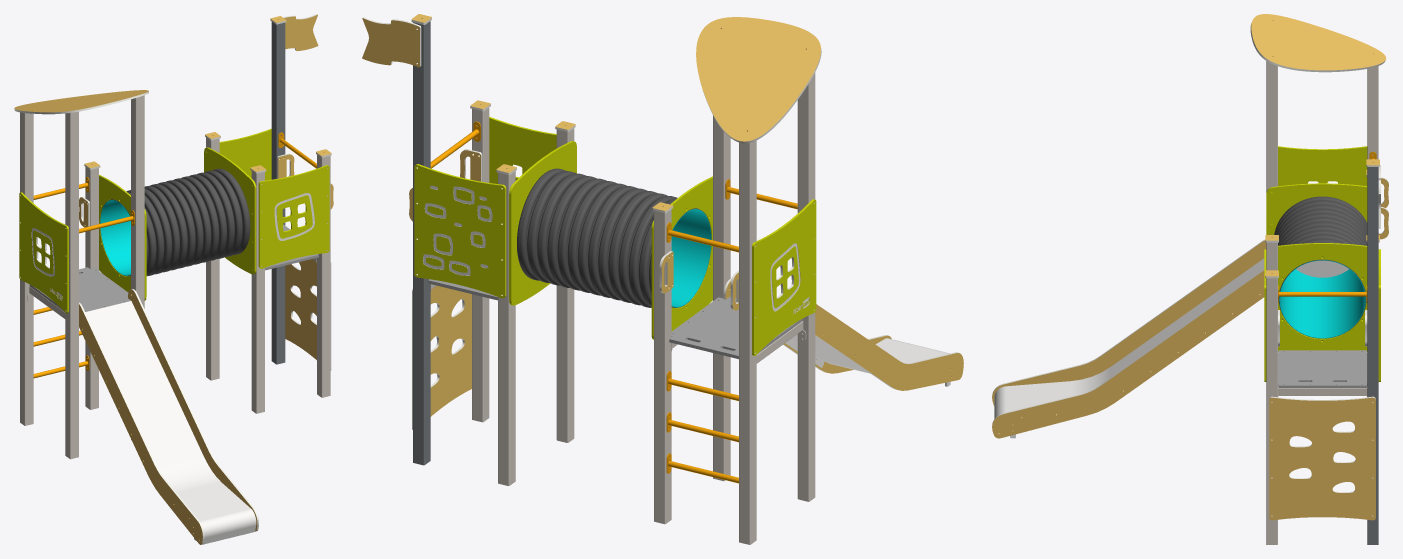
The model's file is lekland-xl.glb.
3 views of the same model, side by side, from view 1: azimuth 30°, elevation 25°; view 2: azimuth 150°, elevation 25°; view 3: azimuth 270°, elevation 25° (orthographic). The views are drawn at different scales.
Parts seen in each view (by area): view 1: Root|FLFJ014_Eco_kettornyu_jv_1200_D_OSZ|Root|beige_low_glos, Root|FLFJ014_Eco_kettornyu_jv_1200_D_OSZ|Root|white-pw-mt110, Root|FLFJ014_Eco_kettornyu_jv_1200_D_OSZ|Root|matte_steel, Root|FLFJ014_Eco_kettornyu_jv_1200_D_OSZ|Root|black_spray_pa, Root|FLFJ014_Eco_kettornyu_jv_1200_D_OSZ|Root|-1, Root|FLFJ014_Eco_kettornyu_jv_1200_D_OSZ|Root|-1-1-1, Root|FLFJ014_Eco_kettornyu_jv_1200_D_OSZ|Root|white_low_glos (×3), Root|FLFJ014_Eco_kettornyu_jv_1200_D_OSZ|Root|dark_grey_low_, Root|FLFJ014_Eco_kettornyu_jv_1200_D_OSZ|Root|-1-1_2, Root|FLFJ014_Eco_kettornyu_jv_1200_D_OSZ|Root|light_grey_low, Root|FLFJ014_Eco_kettornyu_jv_1200_D_OSZ|Root|-2, Root|FLFJ014_Eco_kettornyu_jv_1200_D_OSZ|Root|-1-2-2; view 2: Root|FLFJ014_Eco_kettornyu_jv_1200_D_OSZ|Root|beige_low_glos, Root|FLFJ014_Eco_kettornyu_jv_1200_D_OSZ|Root|white-pw-mt110, Root|FLFJ014_Eco_kettornyu_jv_1200_D_OSZ|Root|-1, Root|FLFJ014_Eco_kettornyu_jv_1200_D_OSZ|Root|black_spray_pa, Root|FLFJ014_Eco_kettornyu_jv_1200_D_OSZ|Root|white_low_glos (×3), Root|FLFJ014_Eco_kettornyu_jv_1200_D_OSZ|Root|-1-1-1, Root|FLFJ014_Eco_kettornyu_jv_1200_D_OSZ|Root|dark_grey_low_, Root|FLFJ014_Eco_kettornyu_jv_1200_D_OSZ|Root|-1-1_2, Root|FLFJ014_Eco_kettornyu_jv_1200_D_OSZ|Root|light_grey_low, Root|FLFJ014_Eco_kettornyu_jv_1200_D_OSZ|Root|-1-2-2, Root|FLFJ014_Eco_kettornyu_jv_1200_D_OSZ|Root|matte_steel; view 3: Root|FLFJ014_Eco_kettornyu_jv_1200_D_OSZ|Root|-1, Root|FLFJ014_Eco_kettornyu_jv_1200_D_OSZ|Root|-1-1_2, Root|FLFJ014_Eco_kettornyu_jv_1200_D_OSZ|Root|white-pw-mt110, Root|FLFJ014_Eco_kettornyu_jv_1200_D_OSZ|Root|beige_low_glos, Root|FLFJ014_Eco_kettornyu_jv_1200_D_OSZ|Root|white_low_glos, Root|FLFJ014_Eco_kettornyu_jv_1200_D_OSZ|Root|light_grey_low, Root|FLFJ014_Eco_kettornyu_jv_1200_D_OSZ|Root|matte_steel, Root|FLFJ014_Eco_kettornyu_jv_1200_D_OSZ|Root|dark_grey_low_, Root|FLFJ014_Eco_kettornyu_jv_1200_D_OSZ|Root|black_spray_pa, Root|FLFJ014_Eco_kettornyu_jv_1200_D_OSZ|Root|-1-1-1, Root|FLFJ014_Eco_kettornyu_jv_1200_D_OSZ|Root|-2.
Boxes of the visible parts, box(x1,y1,x2,y2) form: Root|FLFJ014_Eco_kettornyu_jv_1200_D_OSZ|Root|beige_low_glos: box(20, 95, 330, 459); Root|FLFJ014_Eco_kettornyu_jv_1200_D_OSZ|Root|white-pw-mt110: box(19, 128, 329, 313); Root|FLFJ014_Eco_kettornyu_jv_1200_D_OSZ|Root|matte_steel: box(85, 301, 256, 544); Root|FLFJ014_Eco_kettornyu_jv_1200_D_OSZ|Root|black_spray_pa: box(126, 168, 250, 276); Root|FLFJ014_Eco_kettornyu_jv_1200_D_OSZ|Root|-1: box(14, 90, 257, 544); Root|FLFJ014_Eco_kettornyu_jv_1200_D_OSZ|Root|-1-1-1: box(100, 168, 249, 276); Root|FLFJ014_Eco_kettornyu_jv_1200_D_OSZ|Root|white_low_glos (×3): box(14, 91, 327, 378); Root|FLFJ014_Eco_kettornyu_jv_1200_D_OSZ|Root|dark_grey_low_: box(271, 22, 285, 364); Root|FLFJ014_Eco_kettornyu_jv_1200_D_OSZ|Root|-1-1_2: box(79, 154, 333, 359); Root|FLFJ014_Eco_kettornyu_jv_1200_D_OSZ|Root|light_grey_low: box(29, 224, 318, 311); Root|FLFJ014_Eco_kettornyu_jv_1200_D_OSZ|Root|-2: box(79, 289, 258, 544); Root|FLFJ014_Eco_kettornyu_jv_1200_D_OSZ|Root|-1-2-2: box(284, 14, 318, 50); Root|FLFJ014_Eco_kettornyu_jv_1200_D_OSZ|Root|beige_low_glos: box(430, 72, 815, 544); Root|FLFJ014_Eco_kettornyu_jv_1200_D_OSZ|Root|white-pw-mt110: box(414, 116, 816, 355); Root|FLFJ014_Eco_kettornyu_jv_1200_D_OSZ|Root|-1: box(696, 17, 963, 390); Root|FLFJ014_Eco_kettornyu_jv_1200_D_OSZ|Root|black_spray_pa: box(517, 168, 677, 307); Root|FLFJ014_Eco_kettornyu_jv_1200_D_OSZ|Root|white_low_glos (×3): box(416, 48, 821, 483); Root|FLFJ014_Eco_kettornyu_jv_1200_D_OSZ|Root|-1-1-1: box(518, 168, 711, 307); Root|FLFJ014_Eco_kettornyu_jv_1200_D_OSZ|Root|dark_grey_low_: box(413, 21, 430, 465); Root|FLFJ014_Eco_kettornyu_jv_1200_D_OSZ|Root|-1-1_2: box(409, 150, 738, 416); Root|FLFJ014_Eco_kettornyu_jv_1200_D_OSZ|Root|light_grey_low: box(428, 279, 802, 359); Root|FLFJ014_Eco_kettornyu_jv_1200_D_OSZ|Root|-1-2-2: box(362, 18, 419, 67); Root|FLFJ014_Eco_kettornyu_jv_1200_D_OSZ|Root|matte_steel: box(785, 334, 950, 386); Root|FLFJ014_Eco_kettornyu_jv_1200_D_OSZ|Root|-1: box(992, 14, 1386, 438); Root|FLFJ014_Eco_kettornyu_jv_1200_D_OSZ|Root|-1-1_2: box(1269, 178, 1388, 520); Root|FLFJ014_Eco_kettornyu_jv_1200_D_OSZ|Root|white-pw-mt110: box(1264, 146, 1380, 381); Root|FLFJ014_Eco_kettornyu_jv_1200_D_OSZ|Root|beige_low_glos: box(1266, 61, 1378, 544); Root|FLFJ014_Eco_kettornyu_jv_1200_D_OSZ|Root|white_low_glos: box(1279, 260, 1365, 338); Root|FLFJ014_Eco_kettornyu_jv_1200_D_OSZ|Root|light_grey_low: box(1278, 260, 1367, 388); Root|FLFJ014_Eco_kettornyu_jv_1200_D_OSZ|Root|matte_steel: box(994, 258, 1264, 438); Root|FLFJ014_Eco_kettornyu_jv_1200_D_OSZ|Root|dark_grey_low_: box(1367, 167, 1378, 544); Root|FLFJ014_Eco_kettornyu_jv_1200_D_OSZ|Root|black_spray_pa: box(1274, 196, 1367, 340); Root|FLFJ014_Eco_kettornyu_jv_1200_D_OSZ|Root|-1-1-1: box(1274, 196, 1367, 338); Root|FLFJ014_Eco_kettornyu_jv_1200_D_OSZ|Root|-2: box(992, 239, 1265, 426).
Size of the model in its own units: 2.77 by 3 by 2.75.
